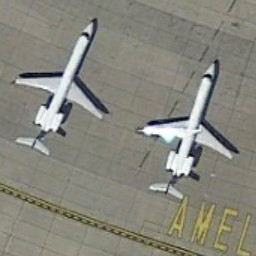Airplane: (135, 45, 240, 207), (6, 11, 110, 164)
